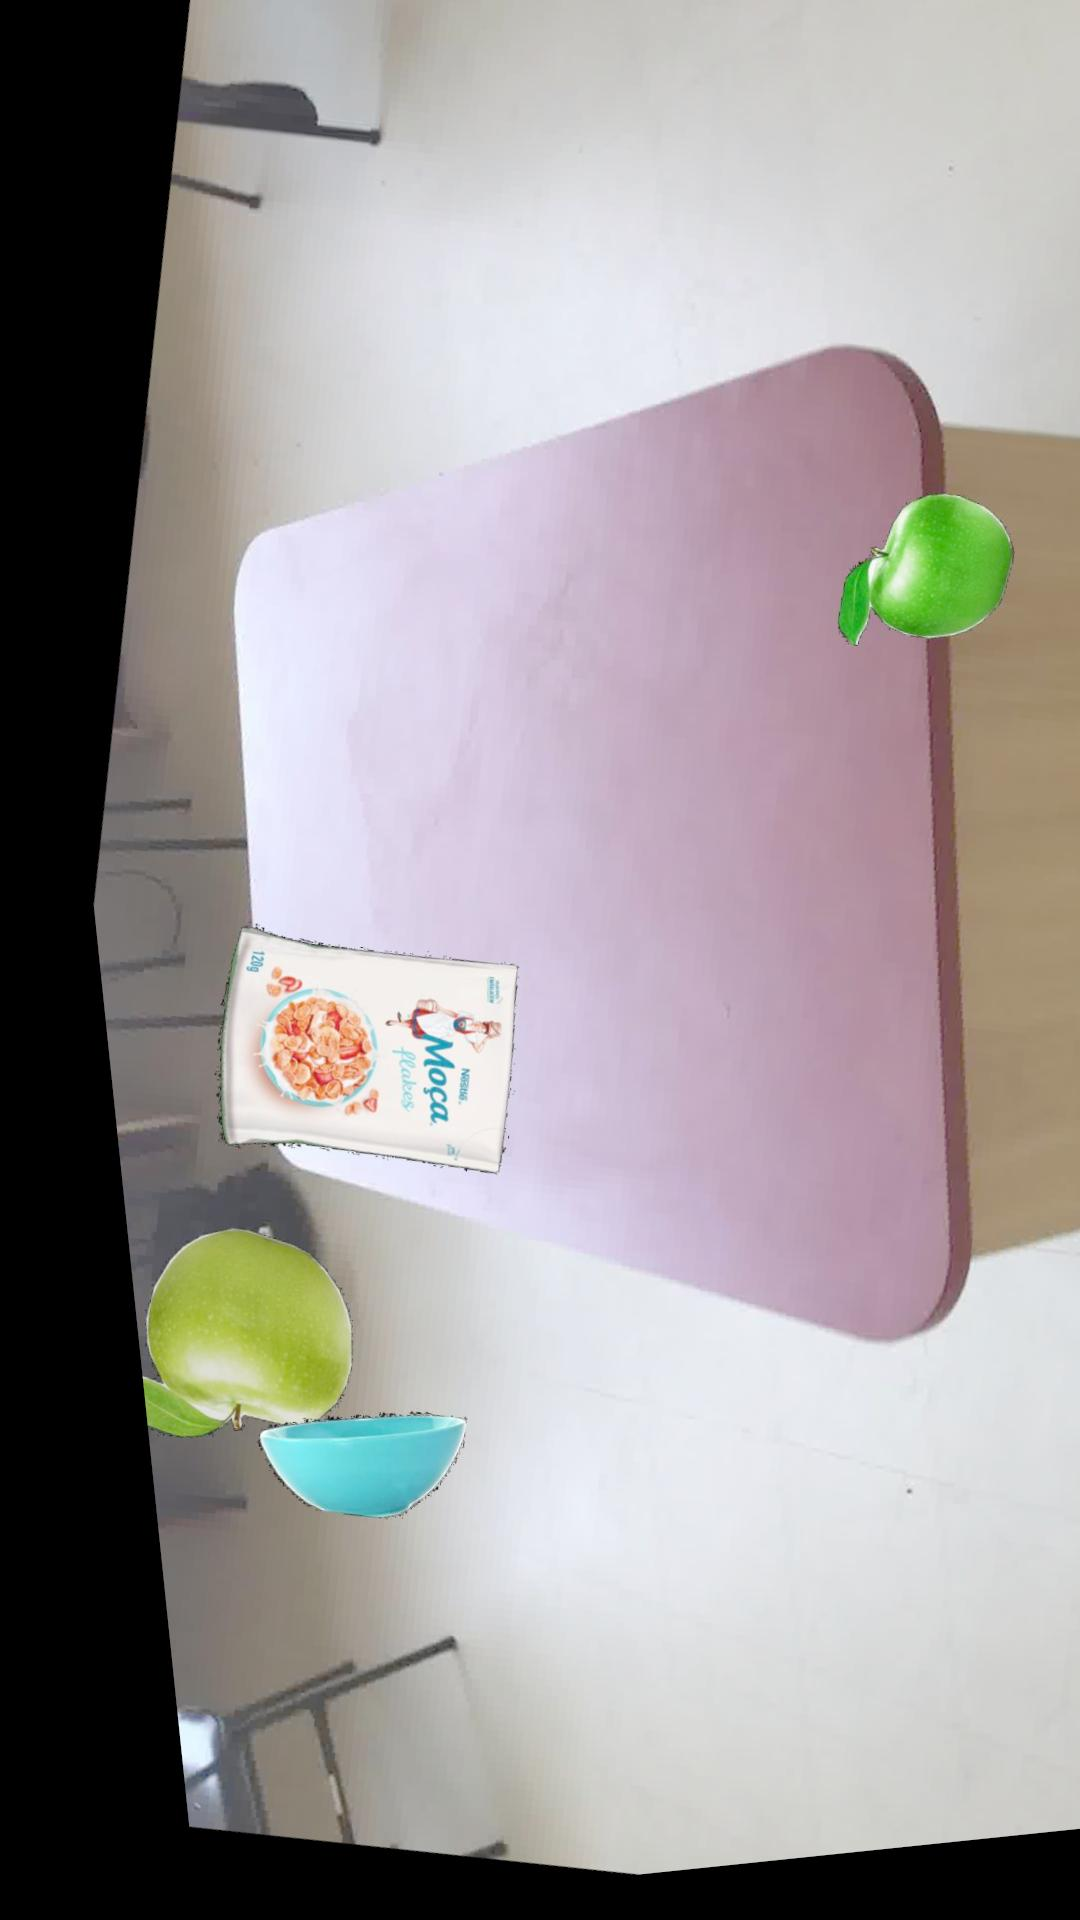bowl: (227, 1416, 435, 1522)
corn flakes: (194, 928, 497, 1180)
green apple: (112, 1229, 324, 1437), (824, 512, 1001, 662)
